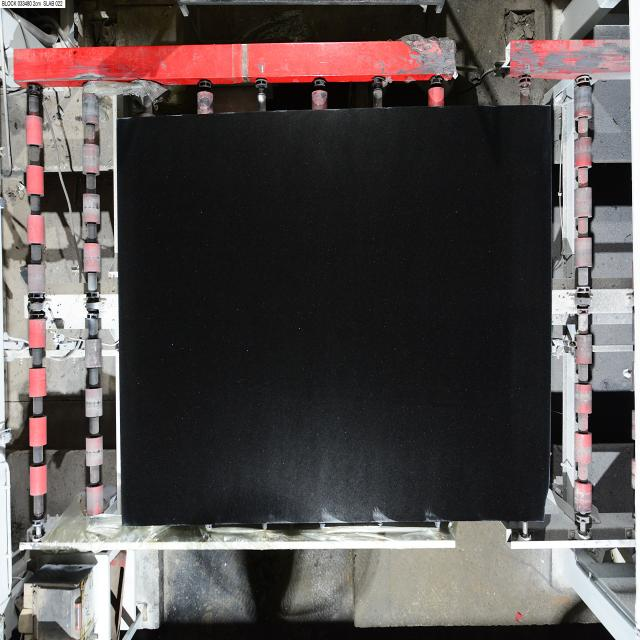chapa: (118, 107, 551, 525)
